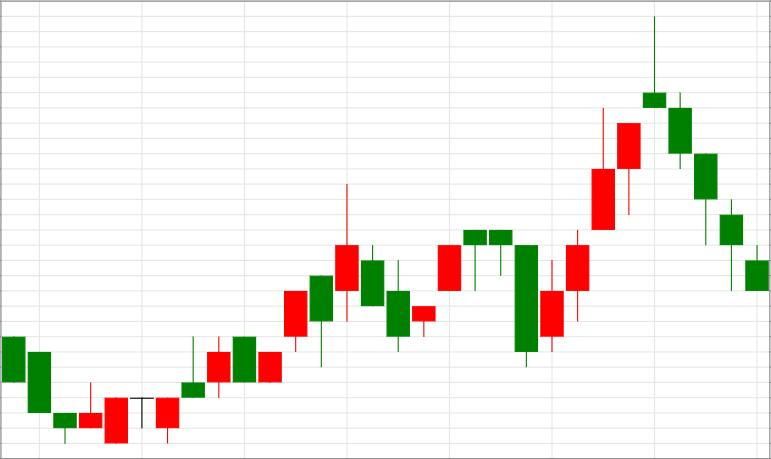evening_star_fall: (540, 16, 692, 351)
